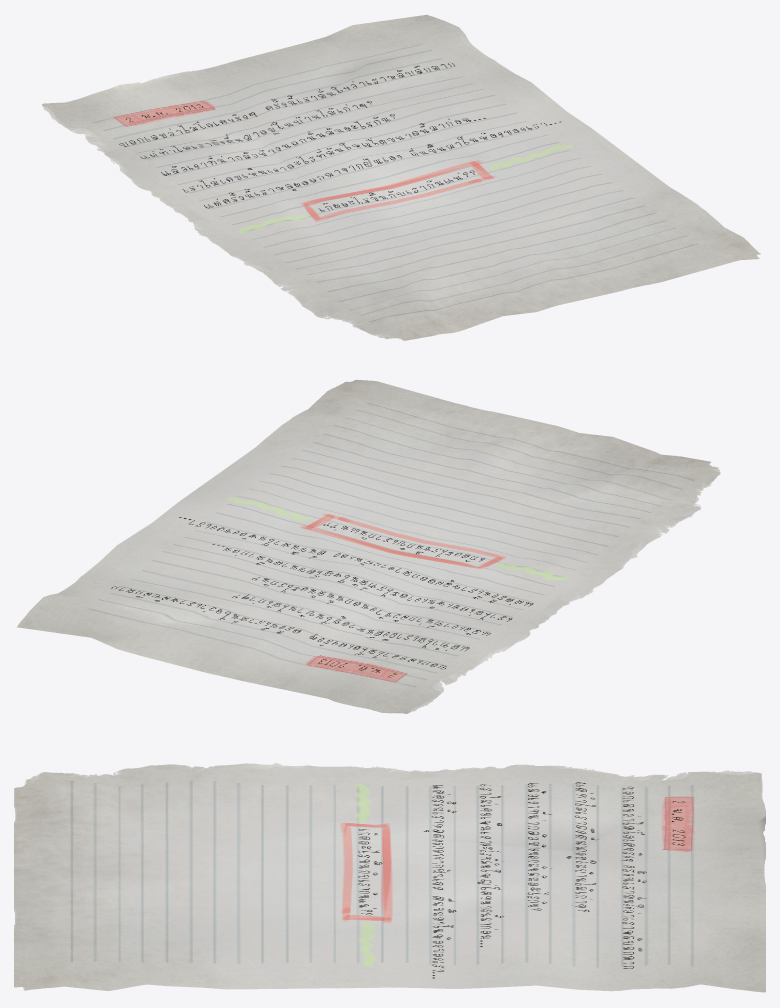
File: diary01.FBX
3 views of the same model, one above another, from view 1: azimuth 30°, elevation 25°; view 2: azimuth 150°, elevation 25°; view 3: azimuth 270°, elevation 25° (orthographic). The views are drawn at different scales.
Visible parts, largest first — view 1: SM_Diary1; view 2: SM_Diary1; view 3: SM_Diary1.
Part boxes in pixels (bbox=[...]): SM_Diary1: bbox=[42, 14, 760, 340]; SM_Diary1: bbox=[16, 379, 720, 713]; SM_Diary1: bbox=[14, 763, 765, 992].
Size of the model in its own units: 18.8 by 0.5262 by 26.3.
Materials: 1 (1 with a texture image).
